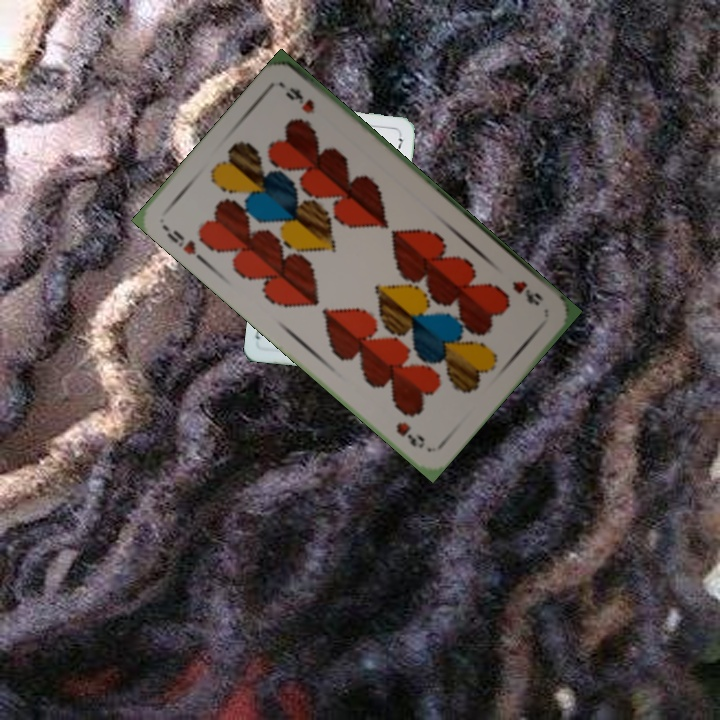H9: (162, 226, 208, 265), (508, 277, 546, 309)
